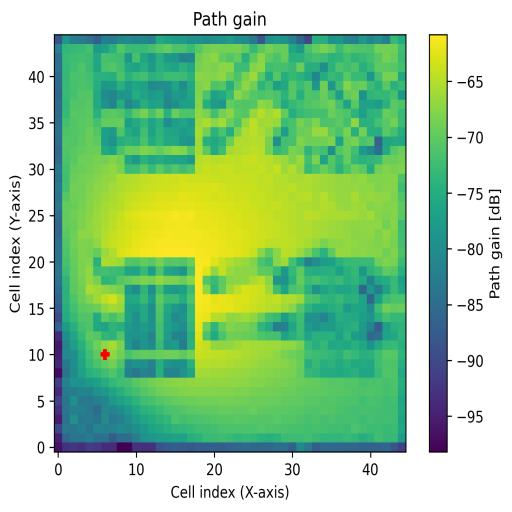Concrete: (305, 52, 381, 173)
Glass: (124, 54, 196, 173)
Metal: (305, 258, 383, 378)
Wood: (125, 256, 195, 378)
